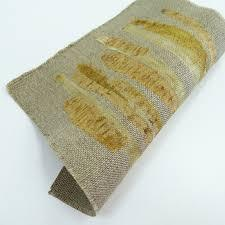Organic: (2, 0, 225, 225)
